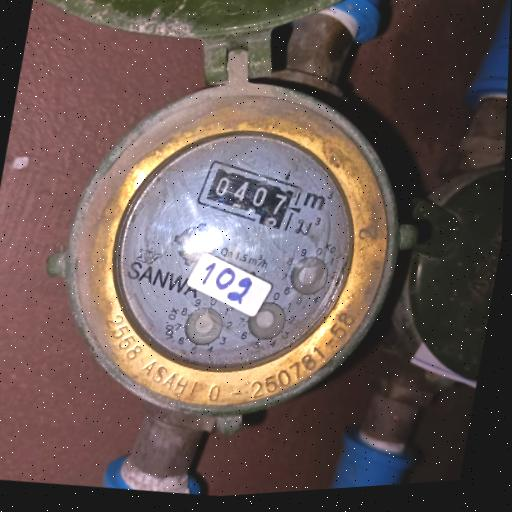0: (205, 166, 239, 208), (244, 177, 276, 217)
4: (225, 172, 257, 212)
7: (259, 183, 295, 233)
border_water_meter_number: (191, 151, 308, 240)
